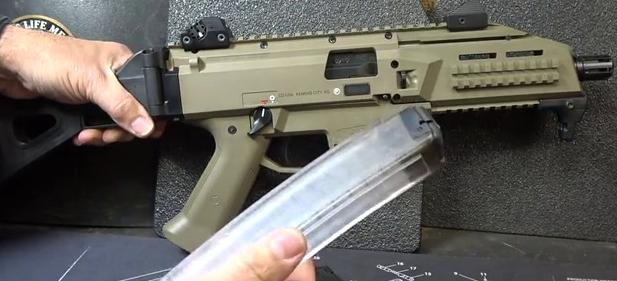gun: (1, 1, 617, 281)
